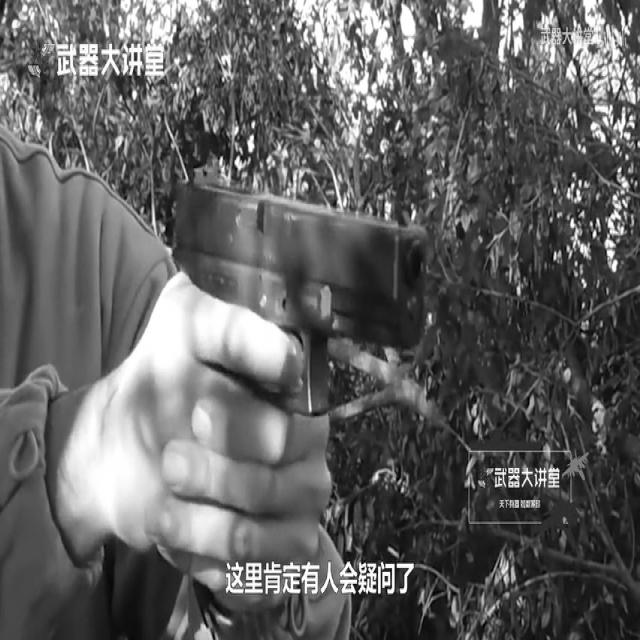Hand-Gun: (138, 103, 463, 640)
